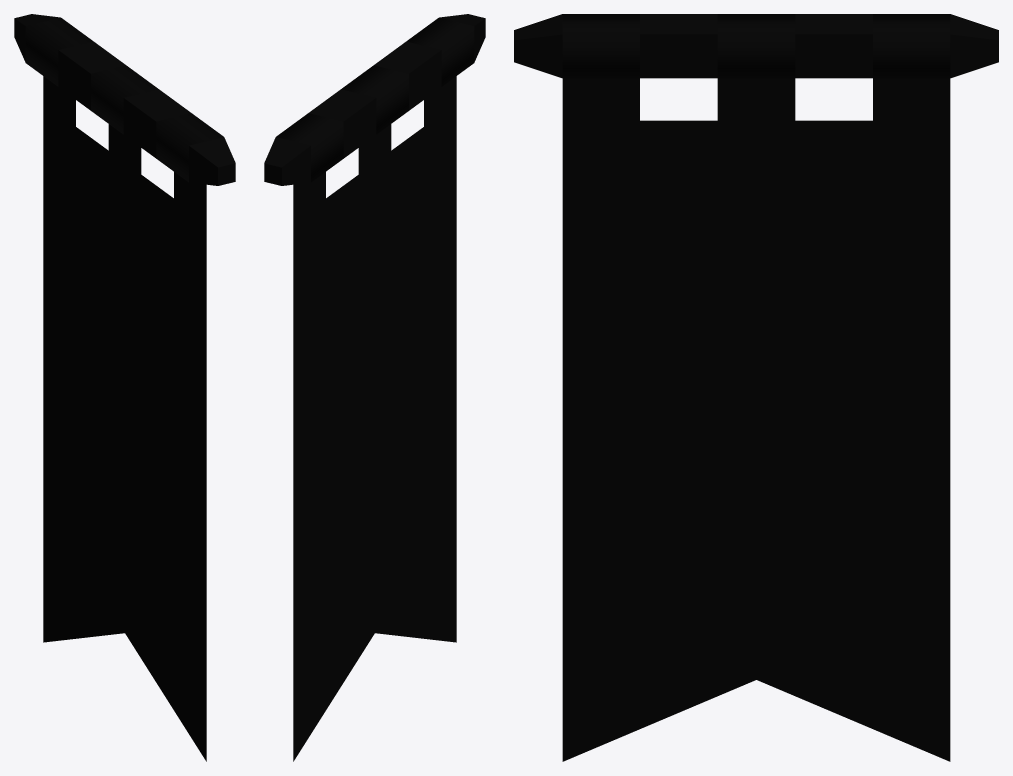
File: banner-green.glb
3 renders of one model, left to right at view 1: azimuth 30°, elevation 25°; view 2: azimuth 150°, elevation 25°; view 3: azimuth 270°, elevation 25°, orthographic. The views are drawn at different scales.
Visible parts, largest first — view 1: banner-green; view 2: banner-green; view 3: banner-green.
Part boxes in pixels (left/top/right/bottom): banner-green: left=14, top=14, right=235, bottom=761; banner-green: left=264, top=14, right=485, bottom=761; banner-green: left=514, top=14, right=998, bottom=761.
Bounding box in the file's own units: 0.05 × 0.8394 × 0.5.
Materials: 1 (1 with a texture image).
